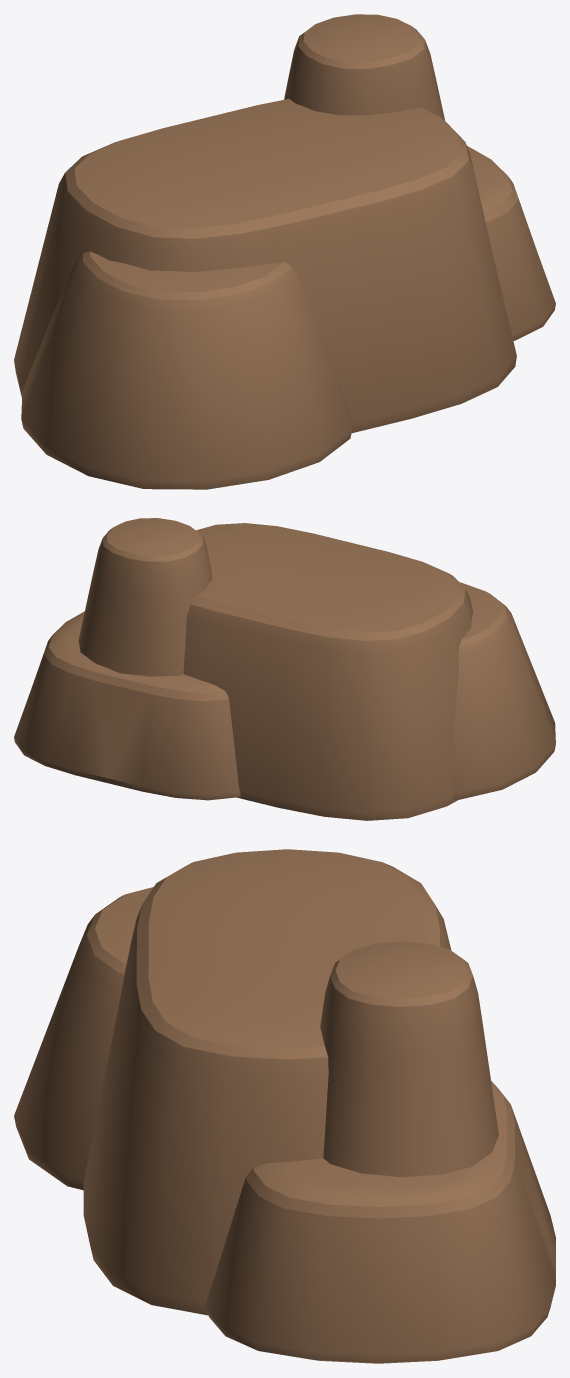
The model's file is RockPlatforms_2.glb.
The picture shows the model from 3 angles, top to bottom: view 1: azimuth 30°, elevation 25°; view 2: azimuth 150°, elevation 25°; view 3: azimuth 270°, elevation 25°; orthographic projection. The views are drawn at different scales.
Parts seen in each view (by area): view 1: RockPlatforms_2; view 2: RockPlatforms_2; view 3: RockPlatforms_2.
Boxes of the visible parts, box(x1,y1,x2,y2) form: RockPlatforms_2: box(14, 14, 555, 489); RockPlatforms_2: box(14, 518, 555, 820); RockPlatforms_2: box(14, 849, 555, 1363).
Bounding box in the file's own units: 9.32 × 4.45 × 6.74.
